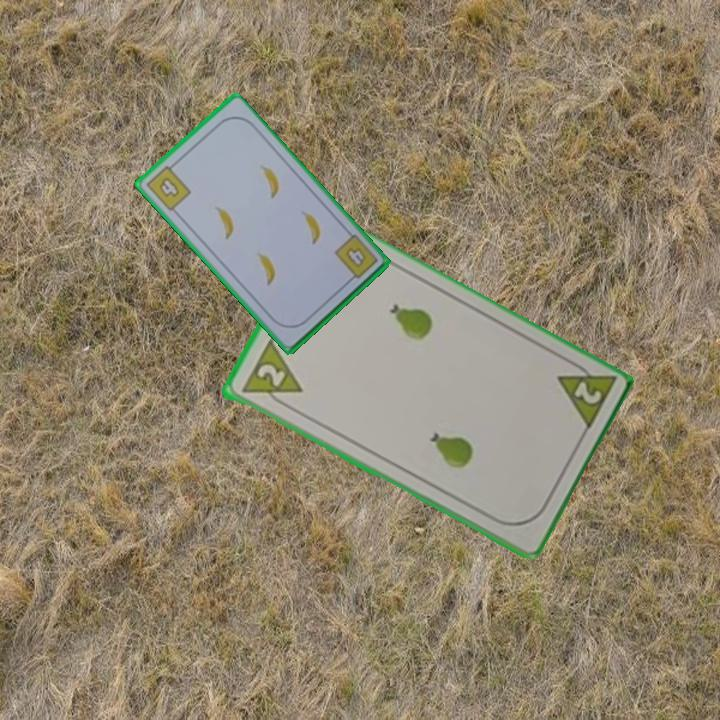2p: (552, 354, 618, 436), (237, 338, 305, 414)
4b: (142, 159, 194, 214), (330, 231, 381, 286)
